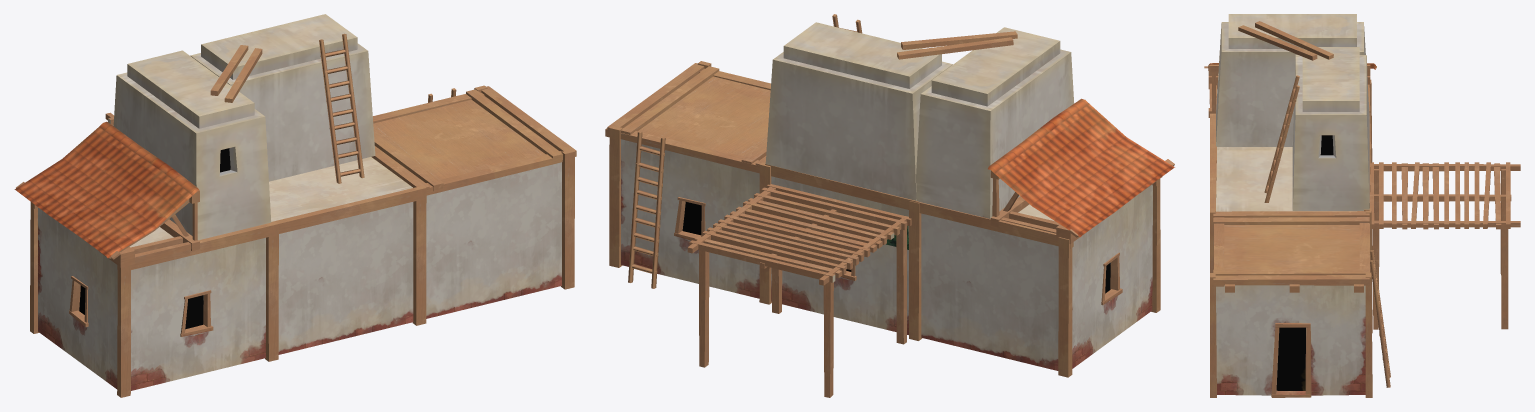
Rendered from SM_house_5.fbx.
3 renders of one model, left to right at view 1: azimuth 30°, elevation 25°; view 2: azimuth 150°, elevation 25°; view 3: azimuth 270°, elevation 25°, orthographic. The views are drawn at different scales.
Parts seen in each view (by area): view 1: kit1_ceilling9, polySurface1042, polySurface1016, polySurface1013, polySurface1015, polySurface1012, polySurface1014, polySurface1017, polySurface1009, polySurface1019, polySurface1018; view 2: kit1_ceilling9, kit1_plant_ceil4, polySurface1033, polySurface1009, polySurface1008, polySurface1010, polySurface1007, polySurface1006, polySurface1015, polySurface1018, polySurface1019, polySurface1011; view 3: kit1_ceilling9, kit1_plant_ceil4, polySurface1042, polySurface1010, polySurface1012, polySurface1033, polySurface1018, polySurface1019, polySurface1016.
Boxes of the visible parts, x1,y1,x2,y2 form: kit1_ceilling9: (14, 14, 576, 390); polySurface1042: (319, 33, 364, 183); polySurface1016: (271, 188, 424, 233); polySurface1013: (412, 185, 426, 325); polySurface1015: (117, 265, 131, 397); polySurface1012: (561, 149, 574, 289); polySurface1014: (265, 221, 278, 361); polySurface1017: (117, 224, 276, 269); polySurface1009: (30, 202, 39, 333); polySurface1019: (224, 48, 262, 102); polySurface1018: (210, 45, 248, 95); kit1_ceilling9: (605, 22, 1174, 370); kit1_plant_ceil4: (687, 184, 911, 397); polySurface1033: (628, 131, 665, 288); polySurface1009: (1058, 237, 1072, 377); polySurface1008: (909, 201, 922, 340); polySurface1010: (609, 125, 622, 267); polySurface1007: (917, 201, 1073, 248); polySurface1006: (765, 163, 918, 209); polySurface1015: (1151, 179, 1160, 312); polySurface1018: (897, 37, 1013, 59); polySurface1019: (901, 31, 1017, 49); polySurface1011: (759, 162, 771, 304); kit1_ceilling9: (1204, 14, 1376, 397); kit1_plant_ceil4: (1370, 162, 1520, 329); polySurface1042: (1264, 75, 1299, 202); polySurface1010: (1365, 272, 1372, 397); polySurface1012: (1210, 272, 1216, 397); polySurface1033: (1370, 250, 1390, 387); polySurface1018: (1255, 21, 1333, 59); polySurface1019: (1238, 25, 1317, 60); polySurface1016: (1210, 145, 1216, 211).
Bounding box in the file's own units: 13.91 × 7.38 × 8.95.
